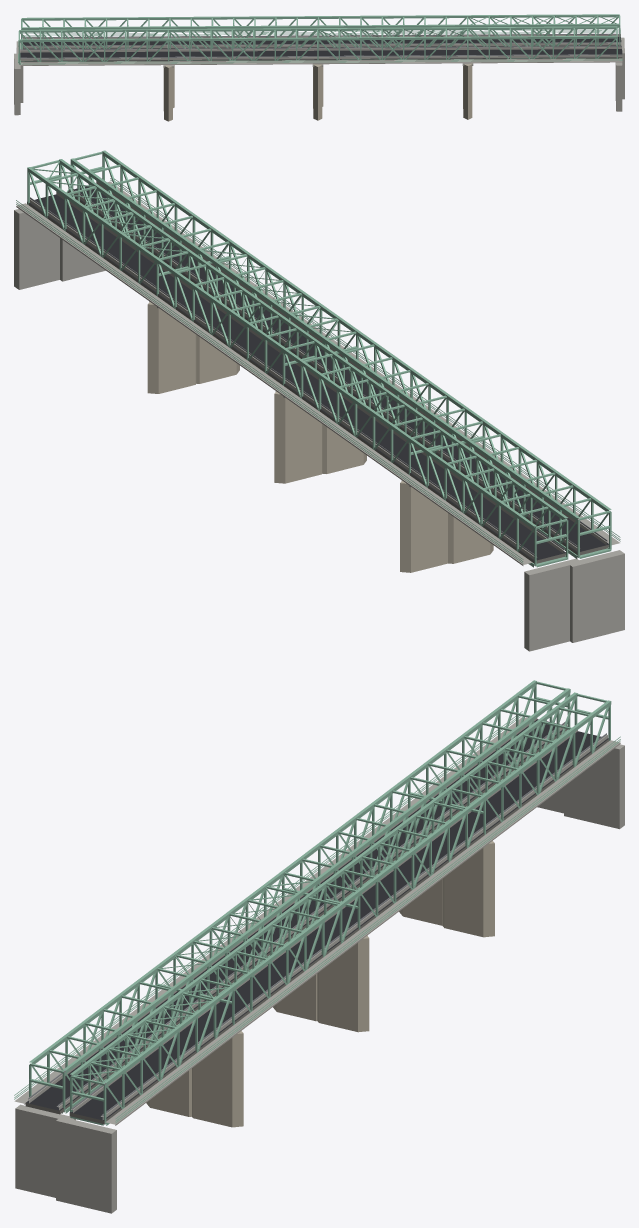
Rendered from br_r13_low_level_lod1.gltf.
3 renders of one model, top to bottom at view 1: azimuth 30°, elevation 25°; view 2: azimuth 150°, elevation 25°; view 3: azimuth 270°, elevation 25°, orthographic. The views are drawn at different scales.
Parts seen in each view (by area): view 1: br_r13_low_level_lod1; view 2: br_r13_low_level_lod1; view 3: br_r13_low_level_lod1.
Boxes of the visible parts, x1,y1,x2,y2 form: br_r13_low_level_lod1: (14, 14, 624, 121); br_r13_low_level_lod1: (14, 150, 624, 651); br_r13_low_level_lod1: (14, 680, 624, 1213).
Size of the model in its own units: 201 by 31.4 by 126.
